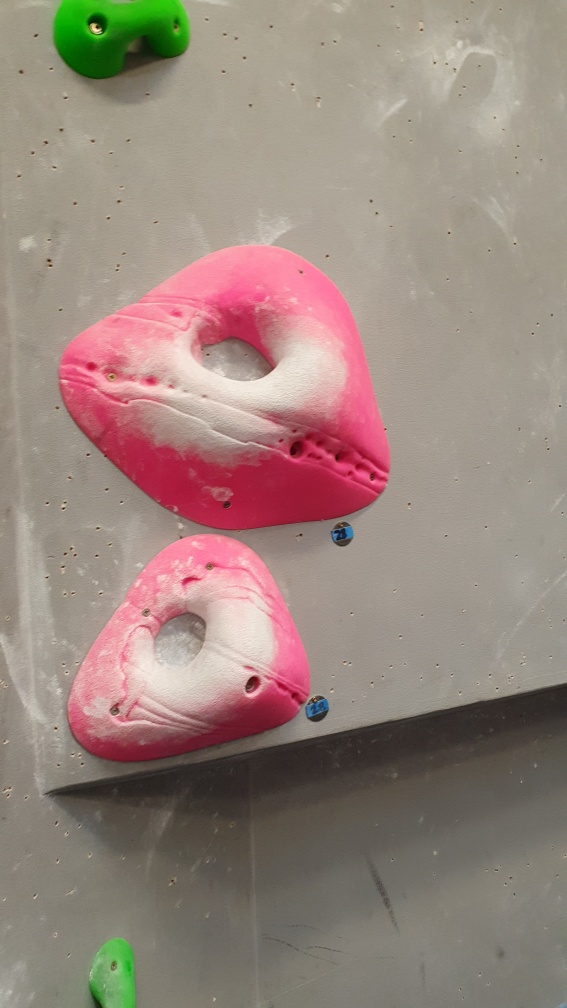Hand Start: (300, 694, 330, 722), (332, 523, 357, 549)
Pocket: (56, 242, 396, 534), (65, 530, 316, 768)
